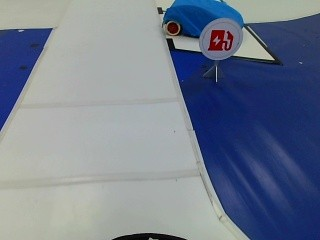battery: (203, 22, 237, 55)
car: (159, 0, 243, 35)
